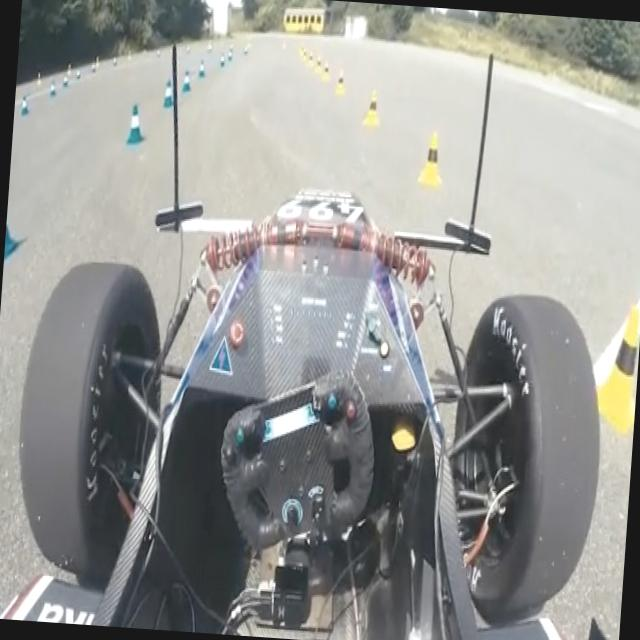blue_cone: (4, 182, 26, 264), (124, 102, 146, 146), (162, 77, 175, 111), (180, 68, 192, 93), (198, 58, 206, 78)
yellow_cone: (585, 291, 640, 437), (417, 126, 446, 188), (362, 88, 381, 128), (333, 68, 348, 96)
